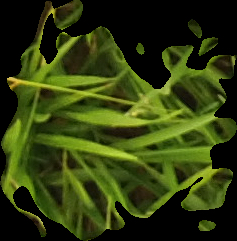grass: (1, 1, 236, 239)
